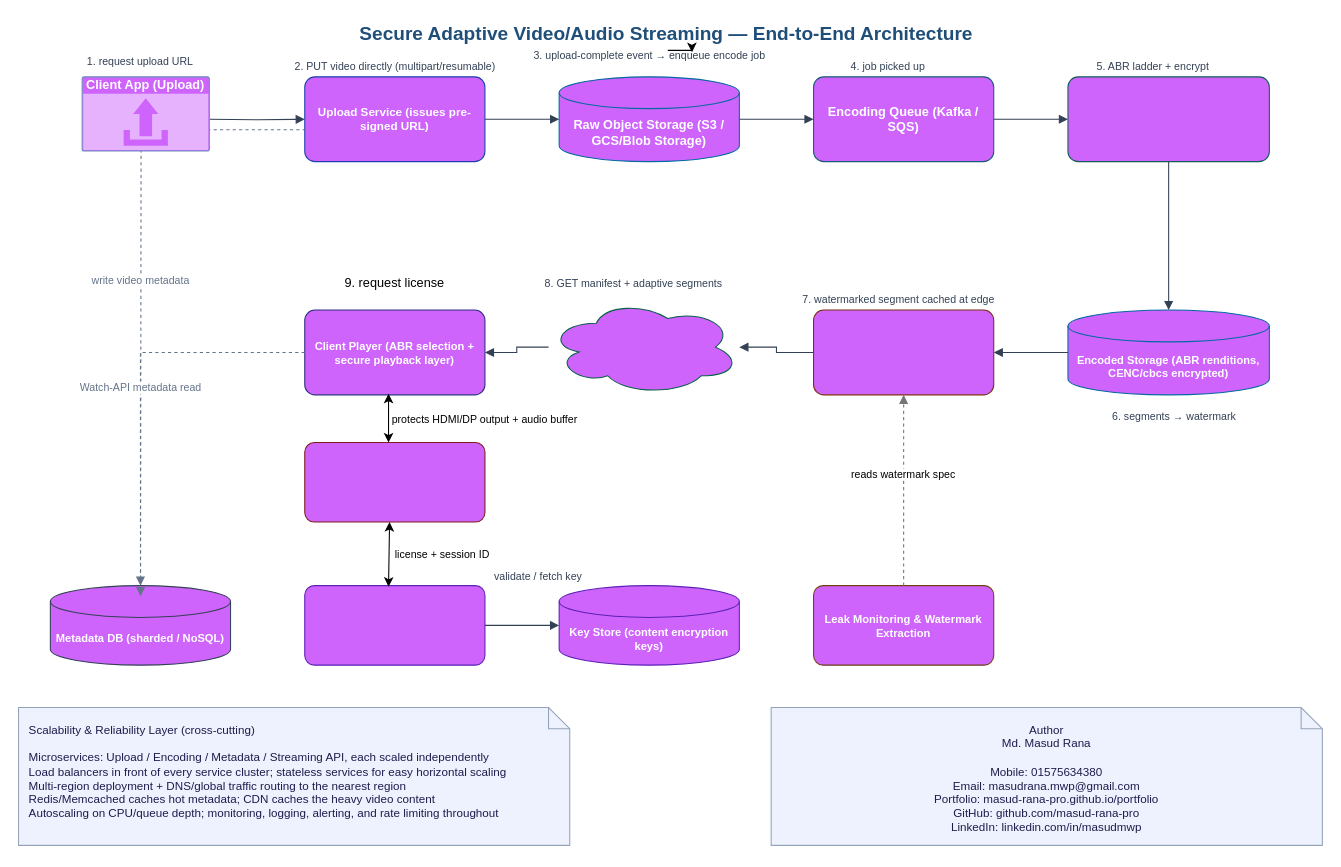
The diagram is 1341 pixels wide and 867 high, and some of its shapes have lost their labels. Here are the shapes that lost their labels. From the top down, the centre of each, then its label:
At [1168,119]: "Encoder Worker Fleet (FFmpeg — ABR ladder 240p–1080p, H.264/VP9)".
At [643,346]: "CDN Edge Cache (HLS .m3u8 / DASH .mpd)".
At [903,352]: "Watermark Injector (server-side A/B, video + audio track)".
At [394,481]: "Output Protection (HDCP on HDMI/DP + OS secure audio path)".
At [394,625]: "DRM License Server (Widevine/FairPlay/PlayReady)".
